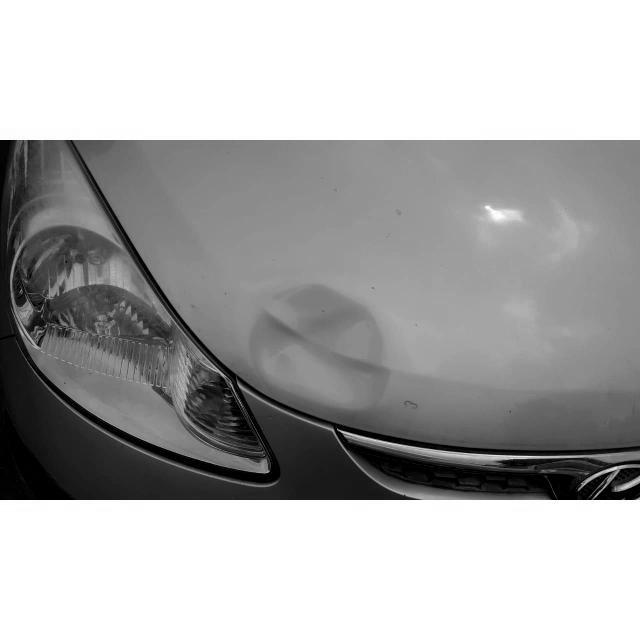bonnet-dent: (129, 140, 637, 452)
